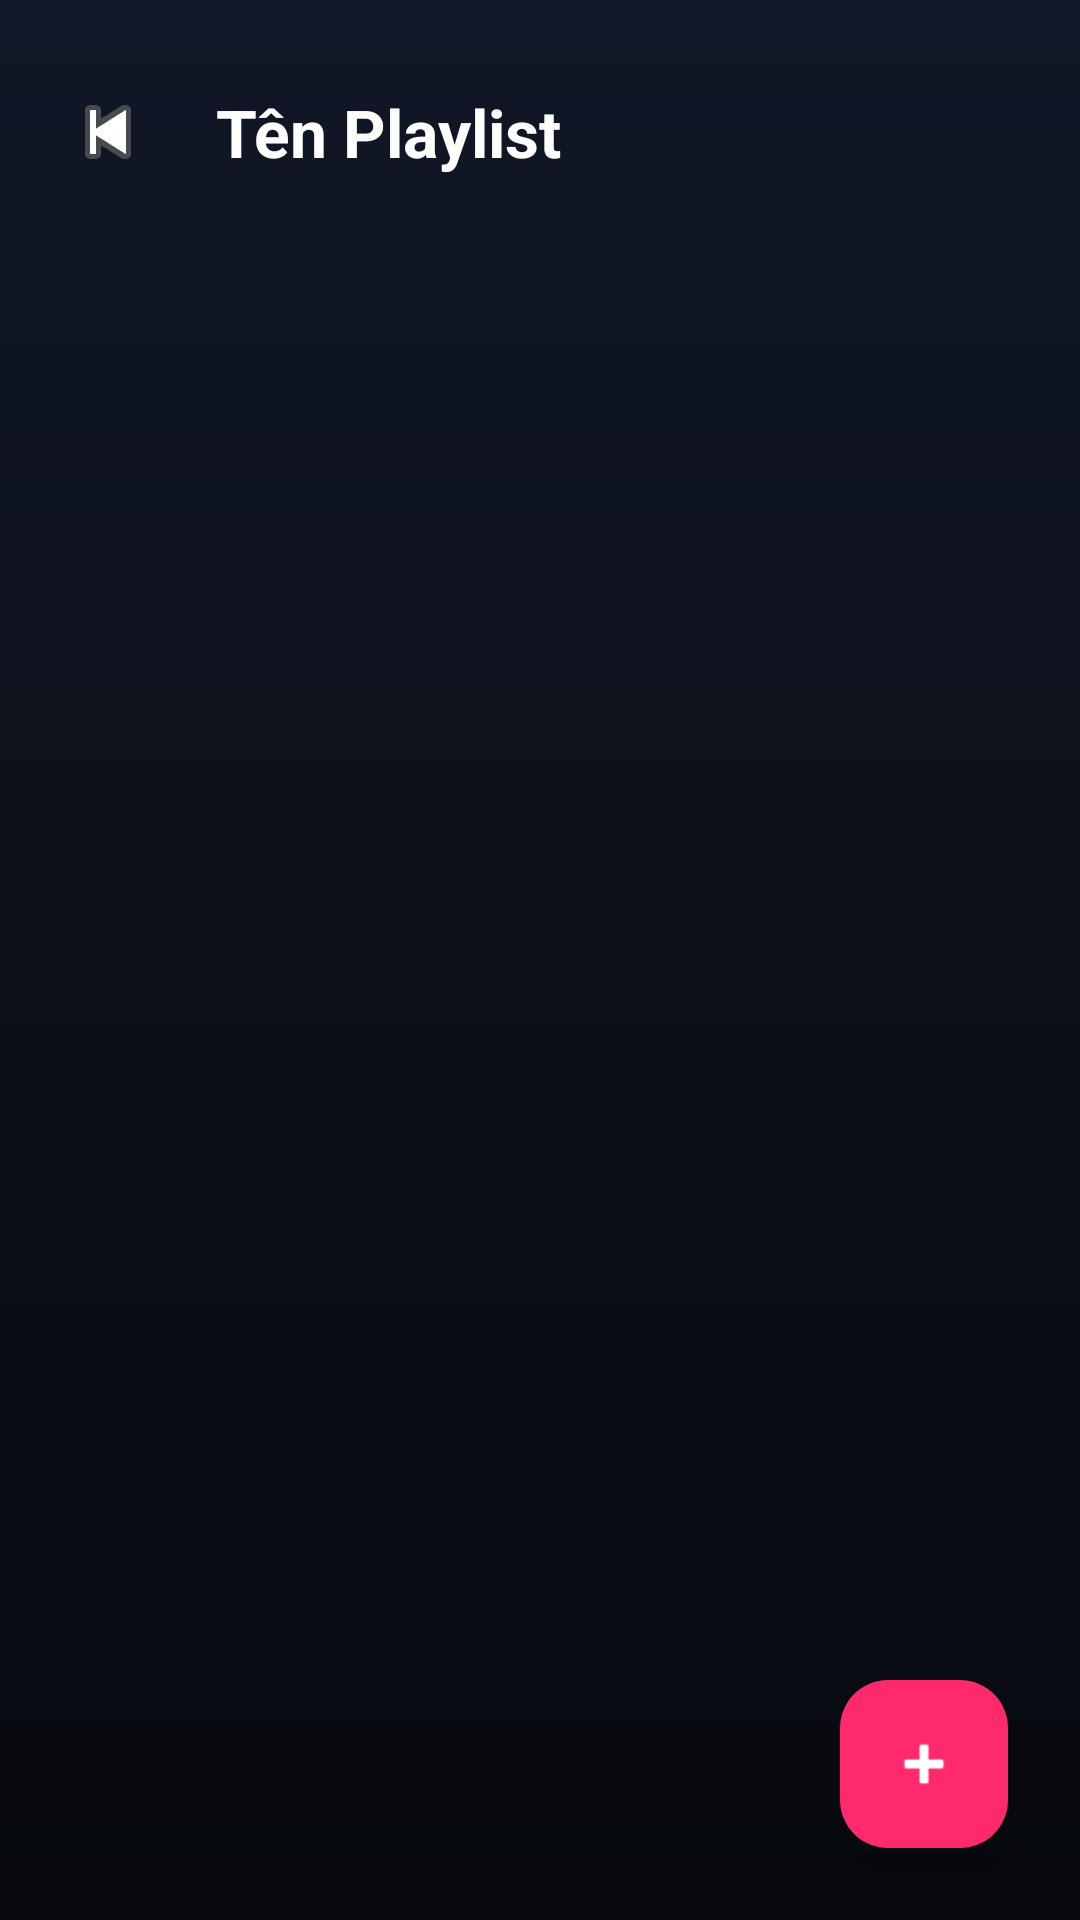

Icons on this 1080x1920 Android screen, each with its box as rect(x1, y1, x2, y2):
previous: rect(85, 105, 131, 159)
Thêm bài hát: rect(840, 1680, 1008, 1848)
